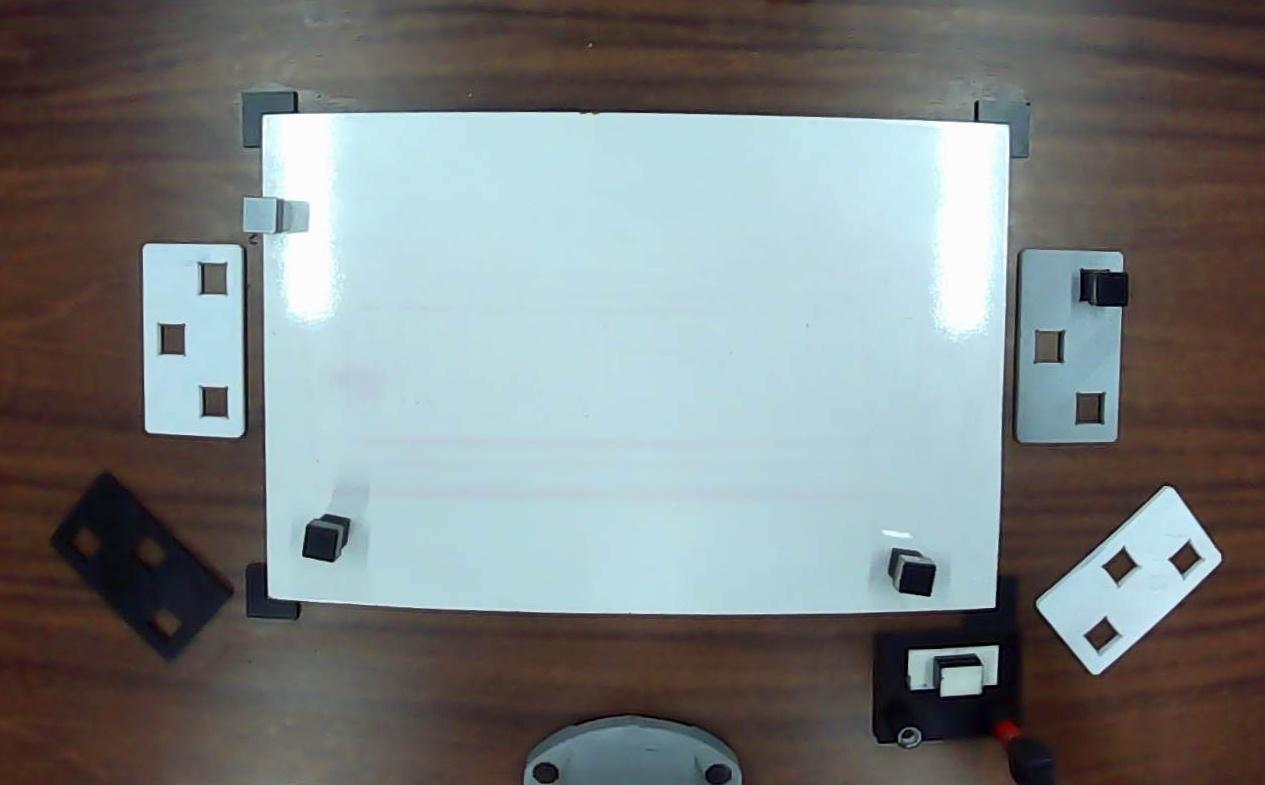peca_cinza: (245, 198, 277, 231)
peca_preta: (900, 564, 936, 597), (305, 526, 336, 561), (1098, 273, 1128, 306)
